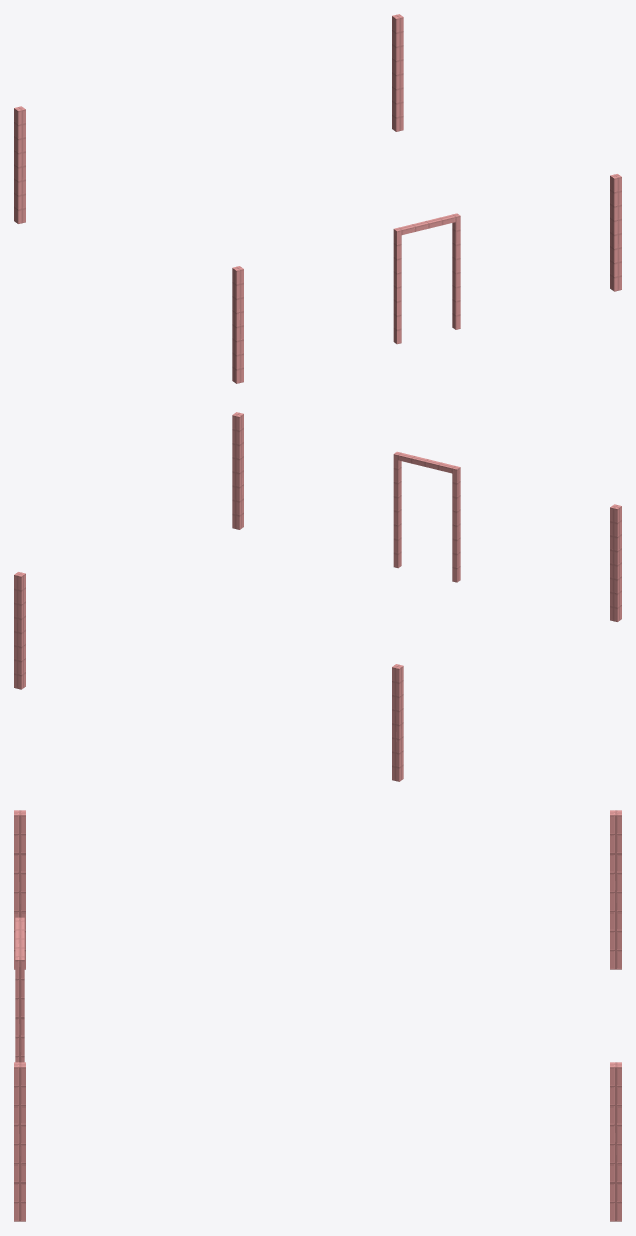
Rendered from accent-0.glb.
3 renders of one model, top to bottom at view 1: azimuth 30°, elevation 25°; view 2: azimuth 150°, elevation 25°; view 3: azimuth 270°, elevation 25°, orthographic. The views are drawn at different scales.
Visible parts, largest first — view 1: accent-0; view 2: accent-0; view 3: accent-0.
Boxes of the visible parts, x1,y1,x2,y2 form: accent-0: (14, 14, 621, 383); accent-0: (14, 412, 621, 781); accent-0: (14, 810, 621, 1221).
Size of the model in its own units: 14.28 by 4 by 14.28.
1 material, 1 textured.
